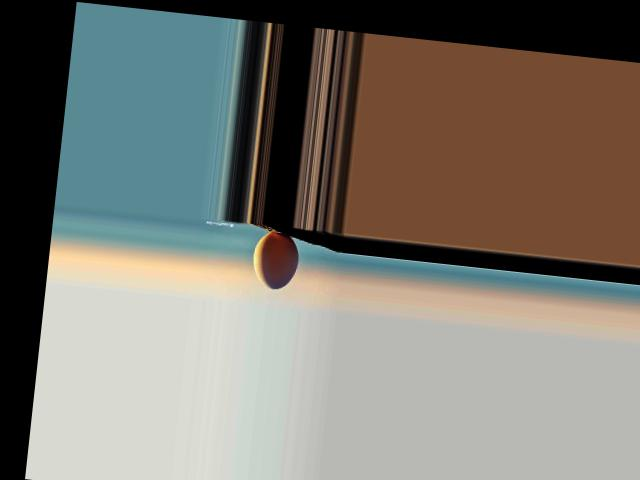egg: (249, 230, 301, 291)
